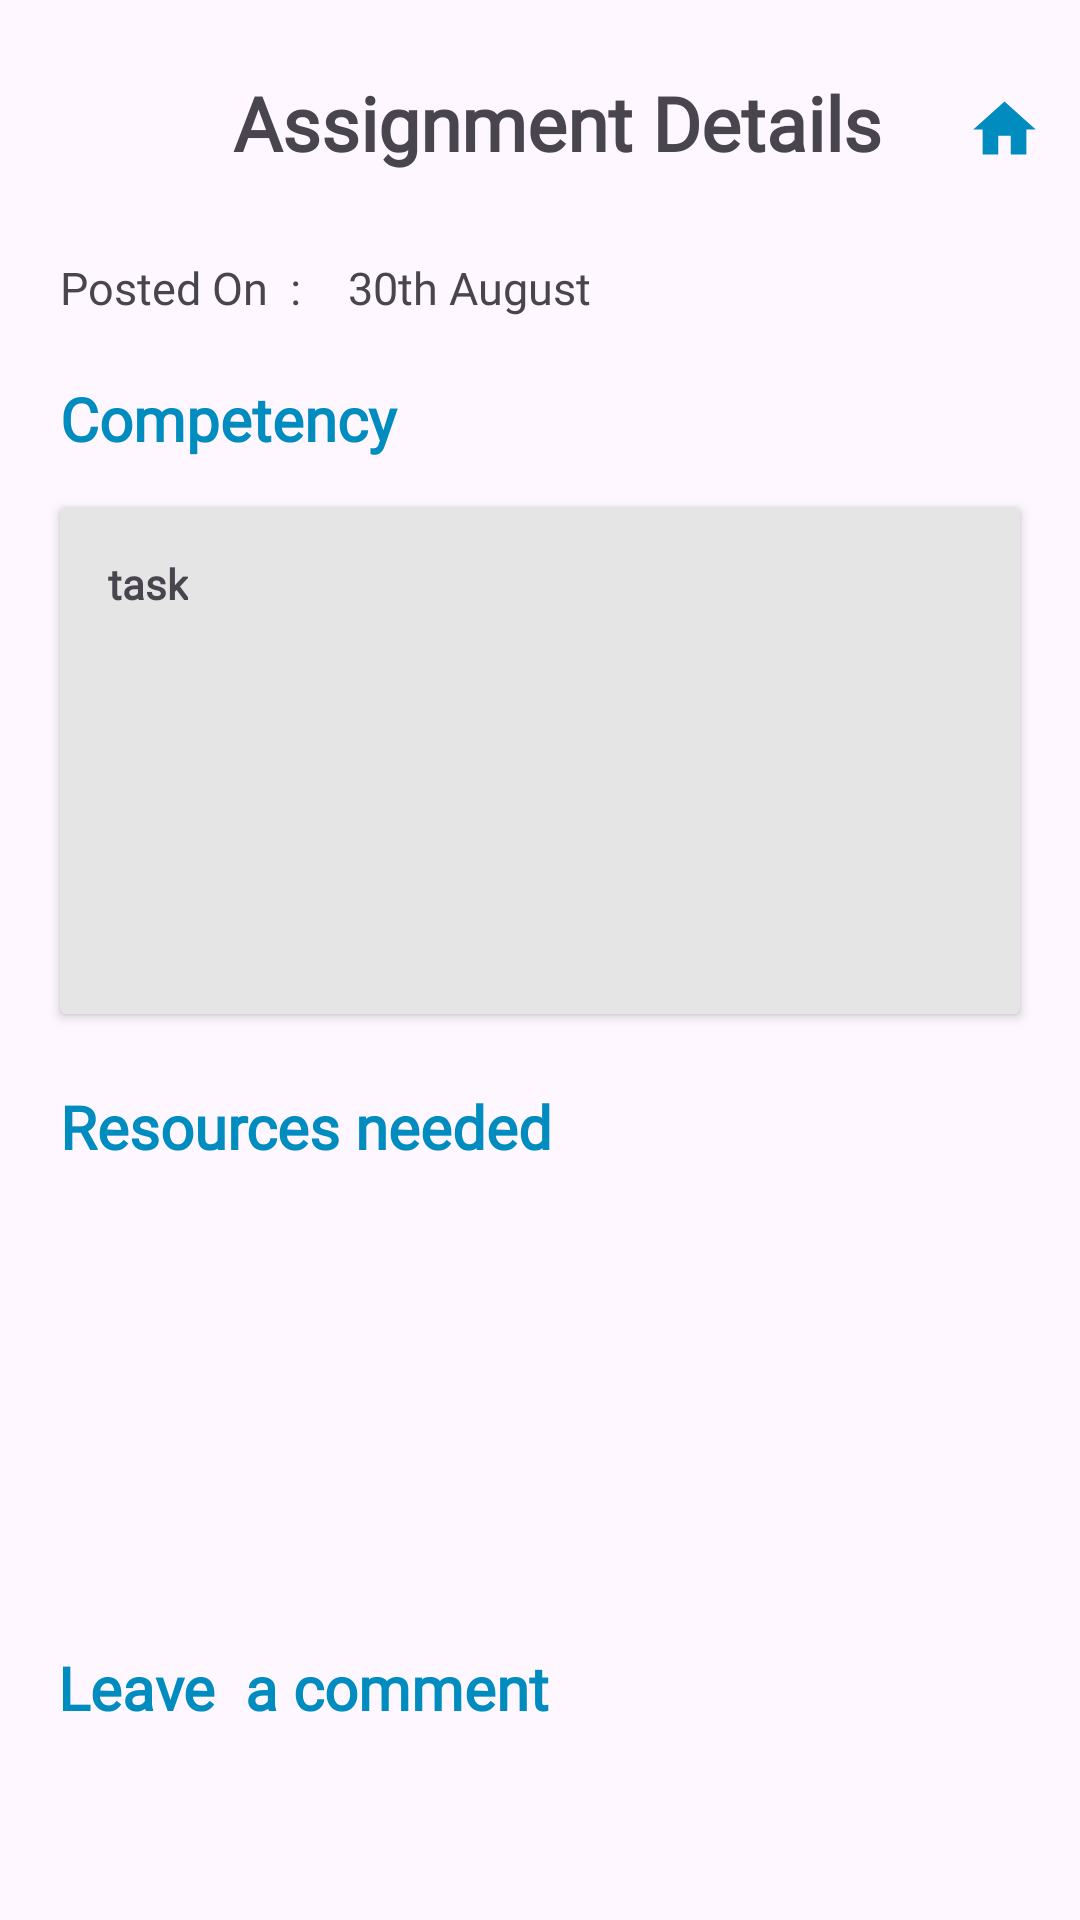

Locate icon controls on the screen. Image size 1080×1920, boxes as (x1, y1, x2, y2).
home: (973, 101, 1036, 155)
